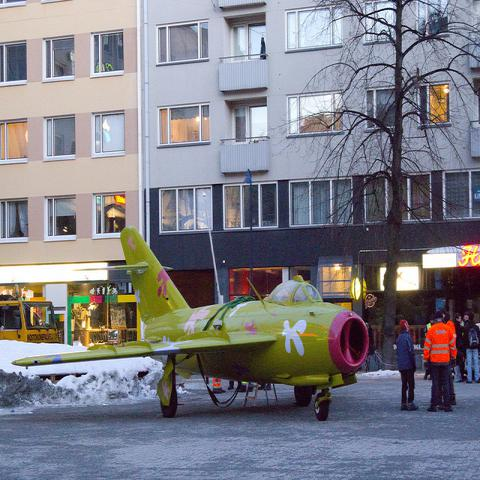truck: (0, 293, 62, 344)
